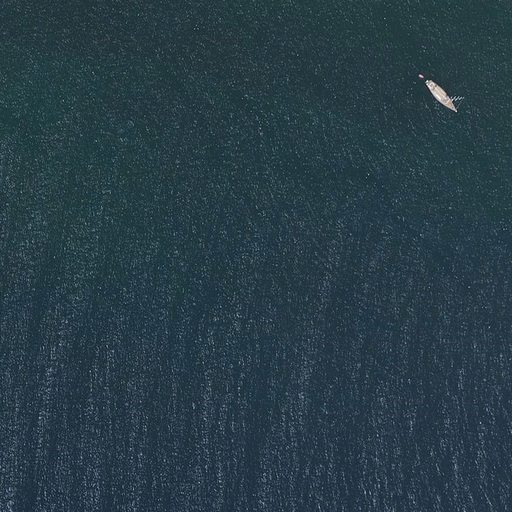ship: (425, 78, 467, 115)
